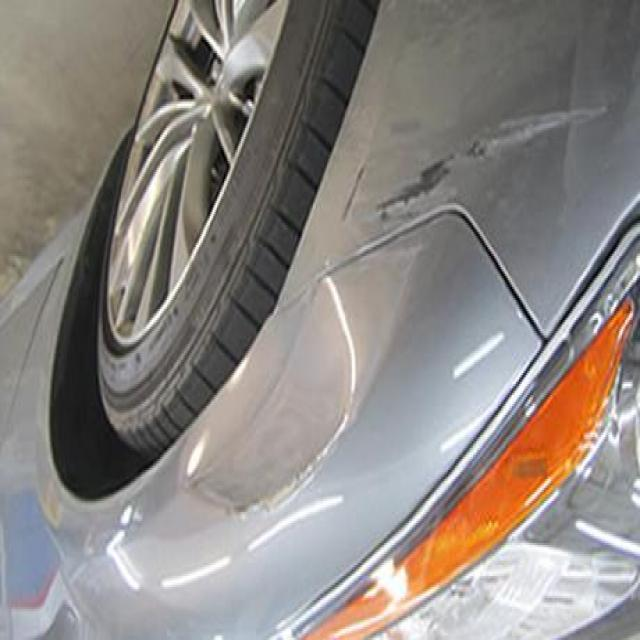scratch: (336, 92, 628, 286)
